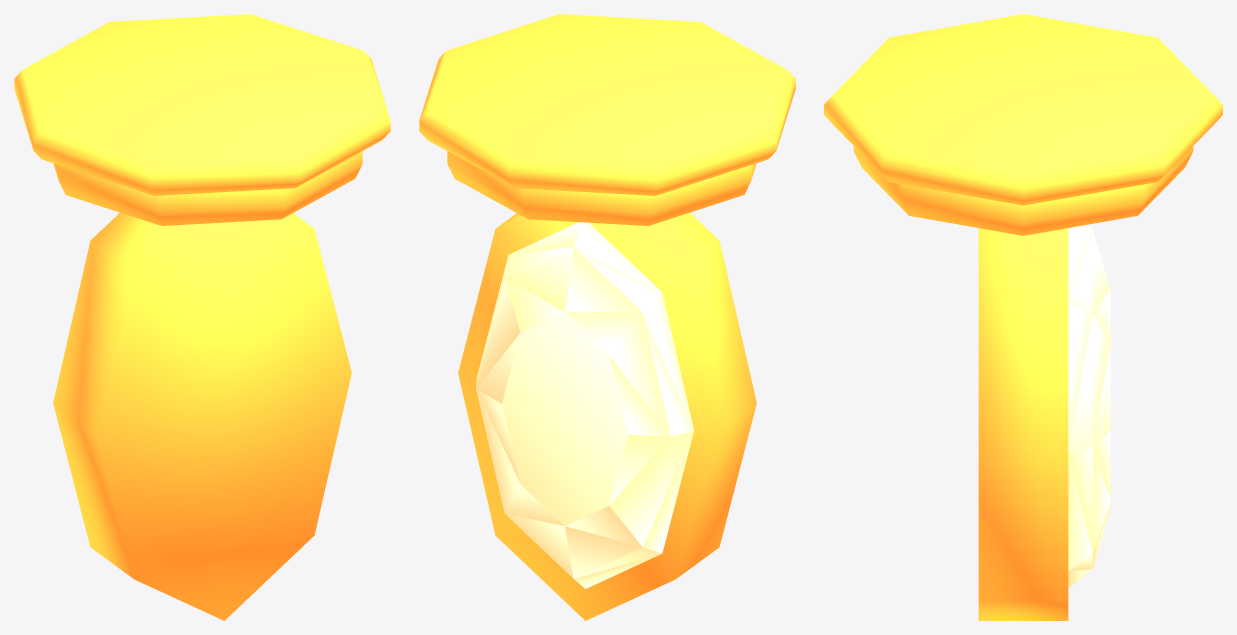
The model's file is gold_pommel_062.glb.
3 views of the same model, side by side, from view 1: azimuth 30°, elevation 25°; view 2: azimuth 150°, elevation 25°; view 3: azimuth 270°, elevation 25° (orthographic). The views are drawn at different scales.
Visible parts, largest first — view 1: gold_pommel_062; view 2: gold_pommel_062; view 3: gold_pommel_062.
Part boxes in pixels (bbox=[...]): gold_pommel_062: bbox=[14, 14, 390, 620]; gold_pommel_062: bbox=[419, 14, 795, 620]; gold_pommel_062: bbox=[824, 14, 1222, 620].
Size of the model in its own units: 2.26 by 3.29 by 2.26.
1 material, 1 textured.
